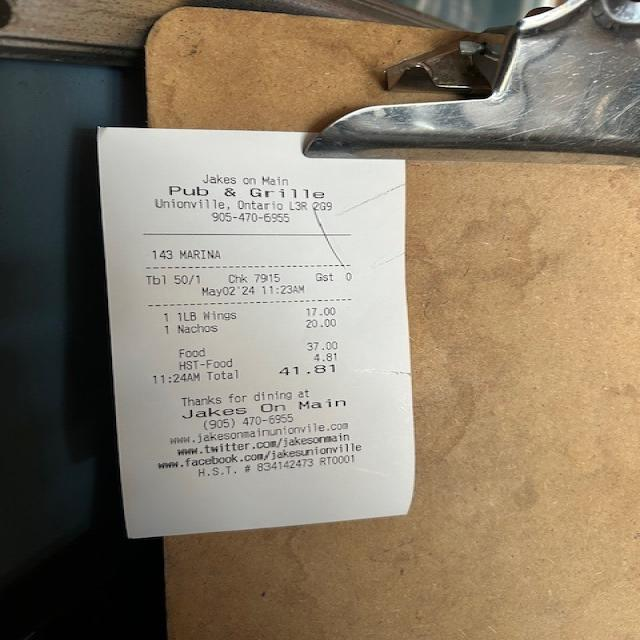item: (172, 316, 340, 338), (172, 304, 340, 323)
store_name: (165, 182, 334, 204)
total_amount: (199, 362, 349, 383)
transaction_date: (196, 283, 258, 300)
